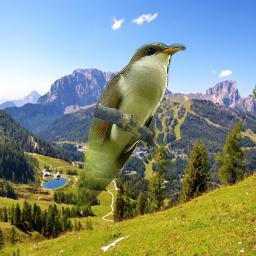Cuckoo: (70, 42, 186, 212)
